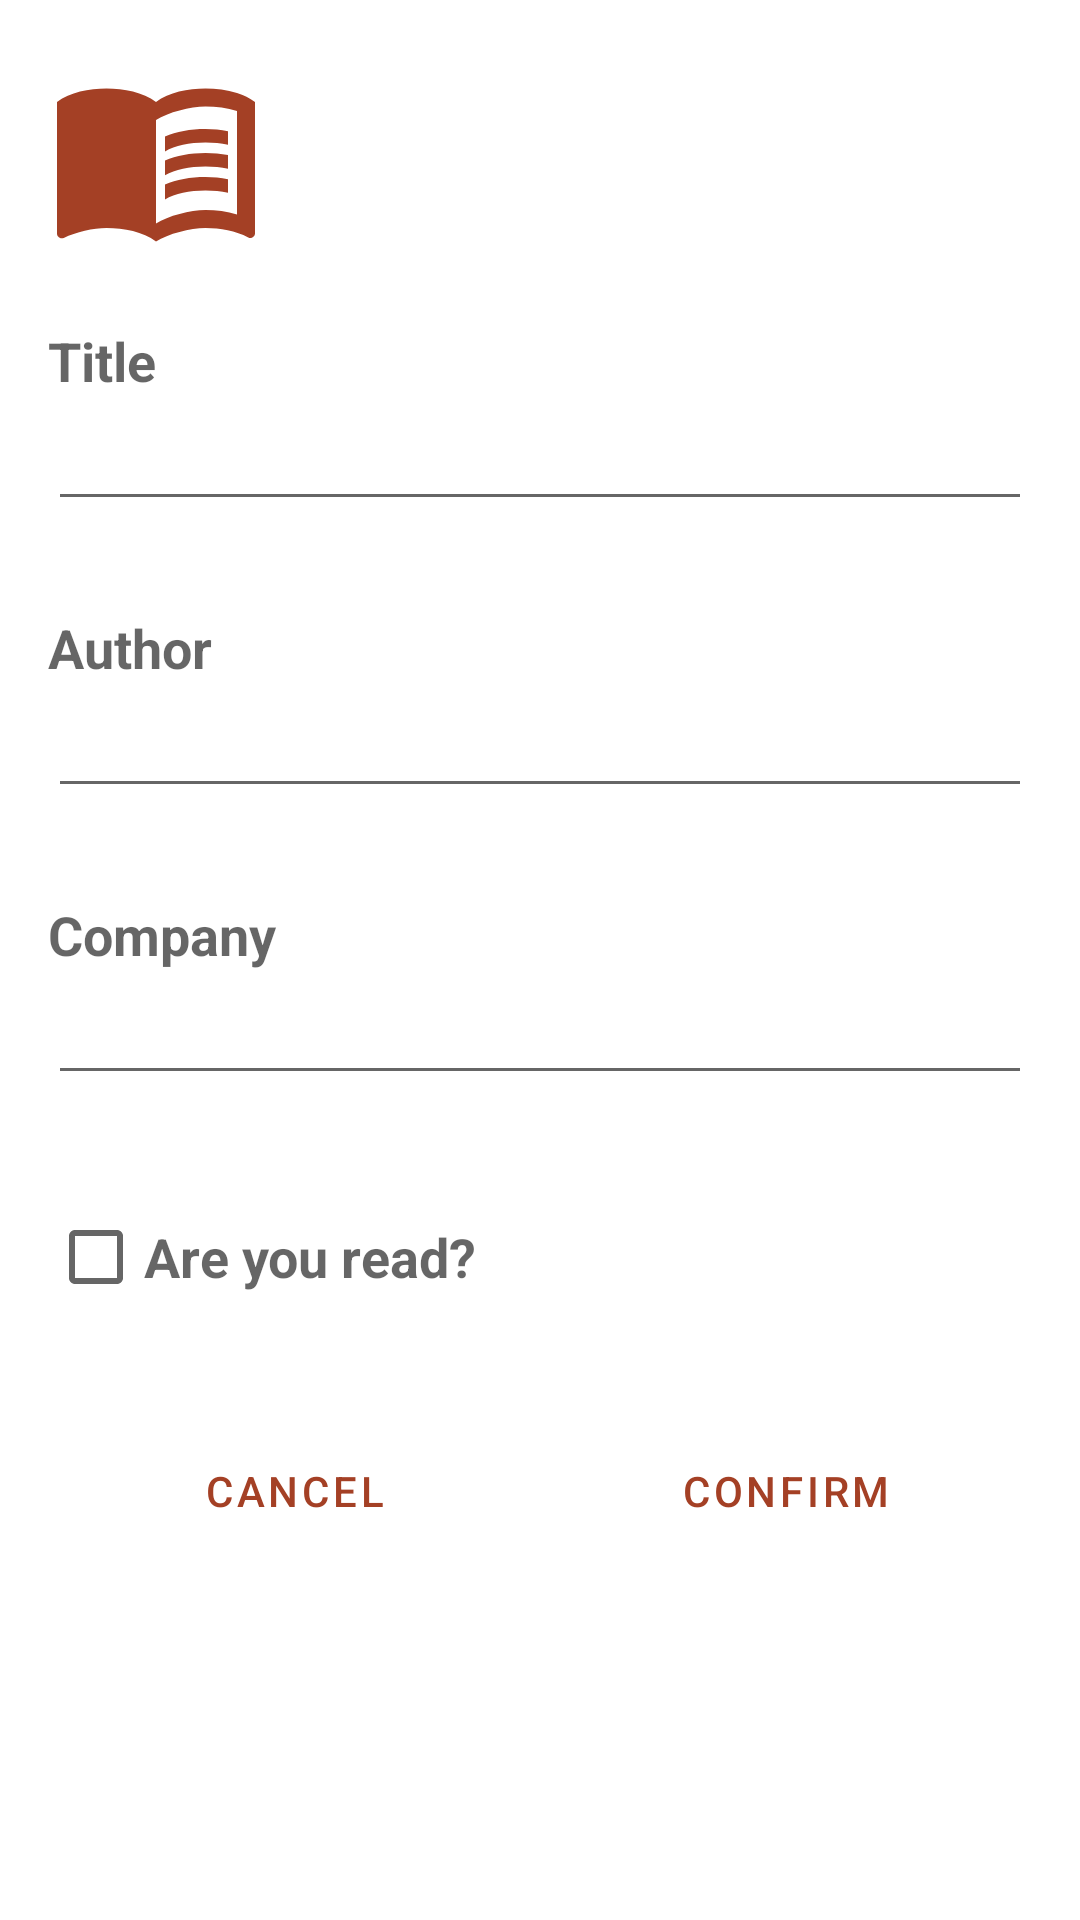

Icon bounding boxes for this 1080px x 1920px phone screenshot, format (x1, y1, x2, y2):
book: (57, 88, 255, 242)
